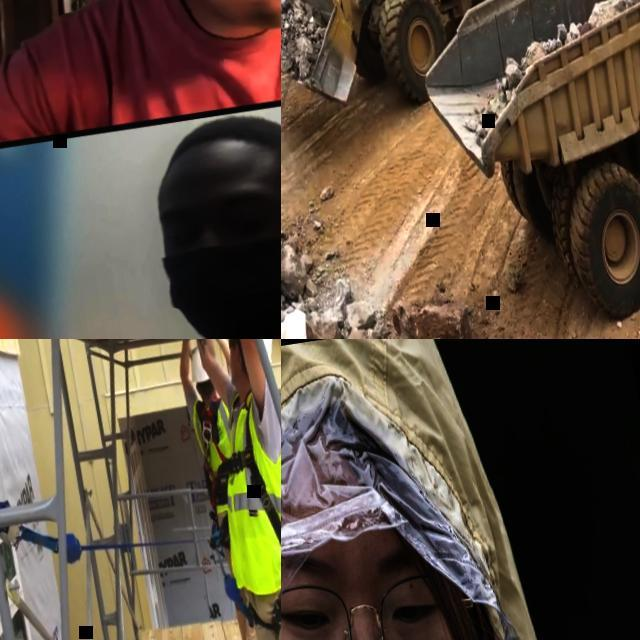helmet: (226, 339, 277, 372), (188, 346, 212, 383)
vest: (205, 383, 281, 597), (190, 389, 246, 513)
